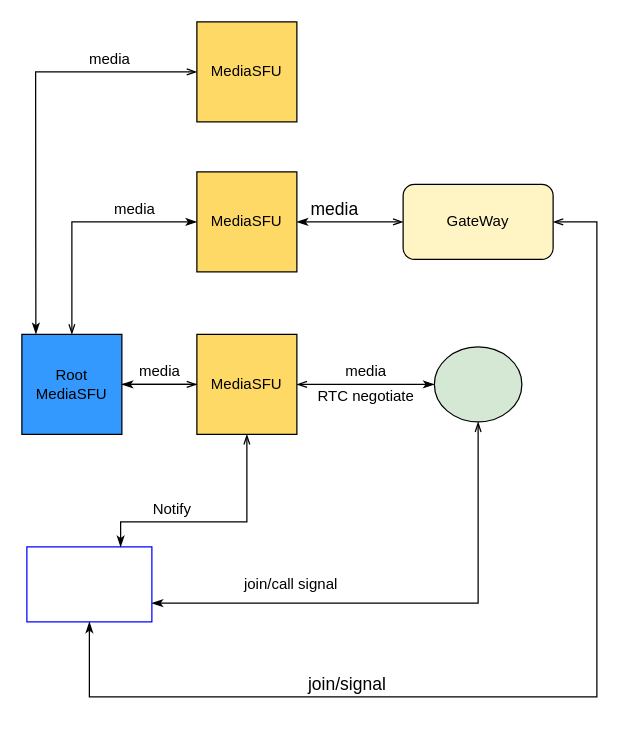
Image size: 630x730. Some labels were removed from this diagram. The centre of each missing label's shape, as x and y in pixels:
App: (477,384)
SignalServer / Manager: (89,584)
